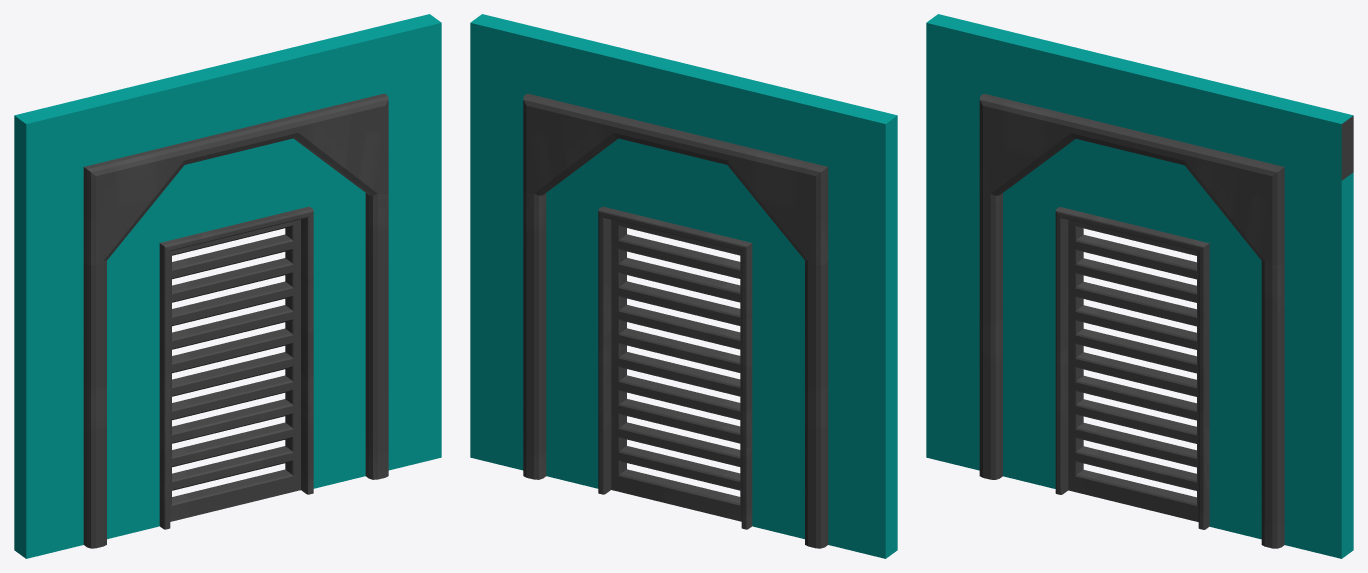
The model's file is En_W_wallDoor_barred.fbx.
3 views of the same model, side by side, from view 1: azimuth 30°, elevation 25°; view 2: azimuth 150°, elevation 25°; view 3: azimuth 330°, elevation 25° (orthographic).
Parts seen in each view (by area): view 1: En_W_wallDoor_barred; view 2: En_W_wallDoor_barred; view 3: En_W_wallDoor_barred.
Part boxes in pixels (x1,y1,x2,y2): En_W_wallDoor_barred: [14, 14, 441, 558]; En_W_wallDoor_barred: [470, 14, 897, 558]; En_W_wallDoor_barred: [926, 14, 1353, 558].
Size of the model in its own units: 400 by 400 by 41.96.
